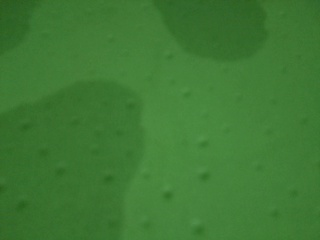Water_detected: (8, 93, 173, 240), (168, 0, 237, 45), (0, 13, 40, 52)
